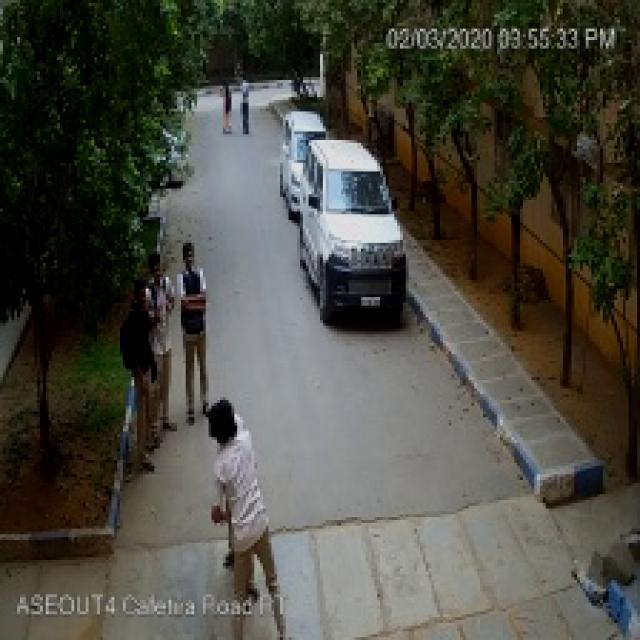fight: (164, 392, 325, 640)
